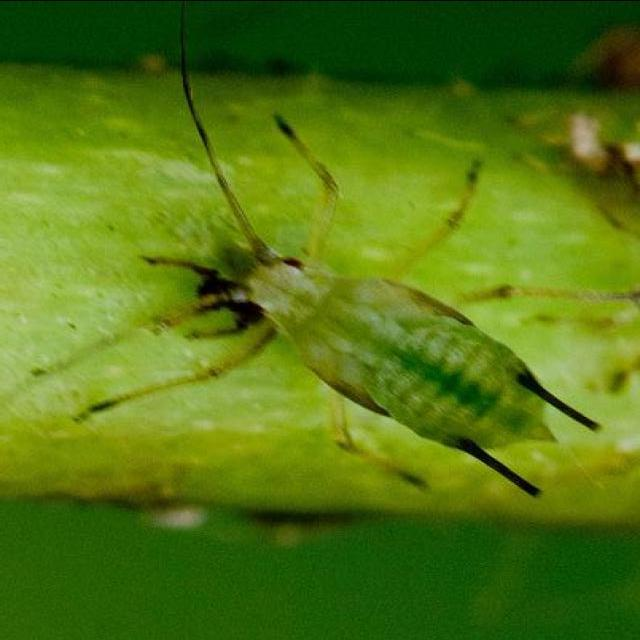aphid: (80, 68, 592, 528)
